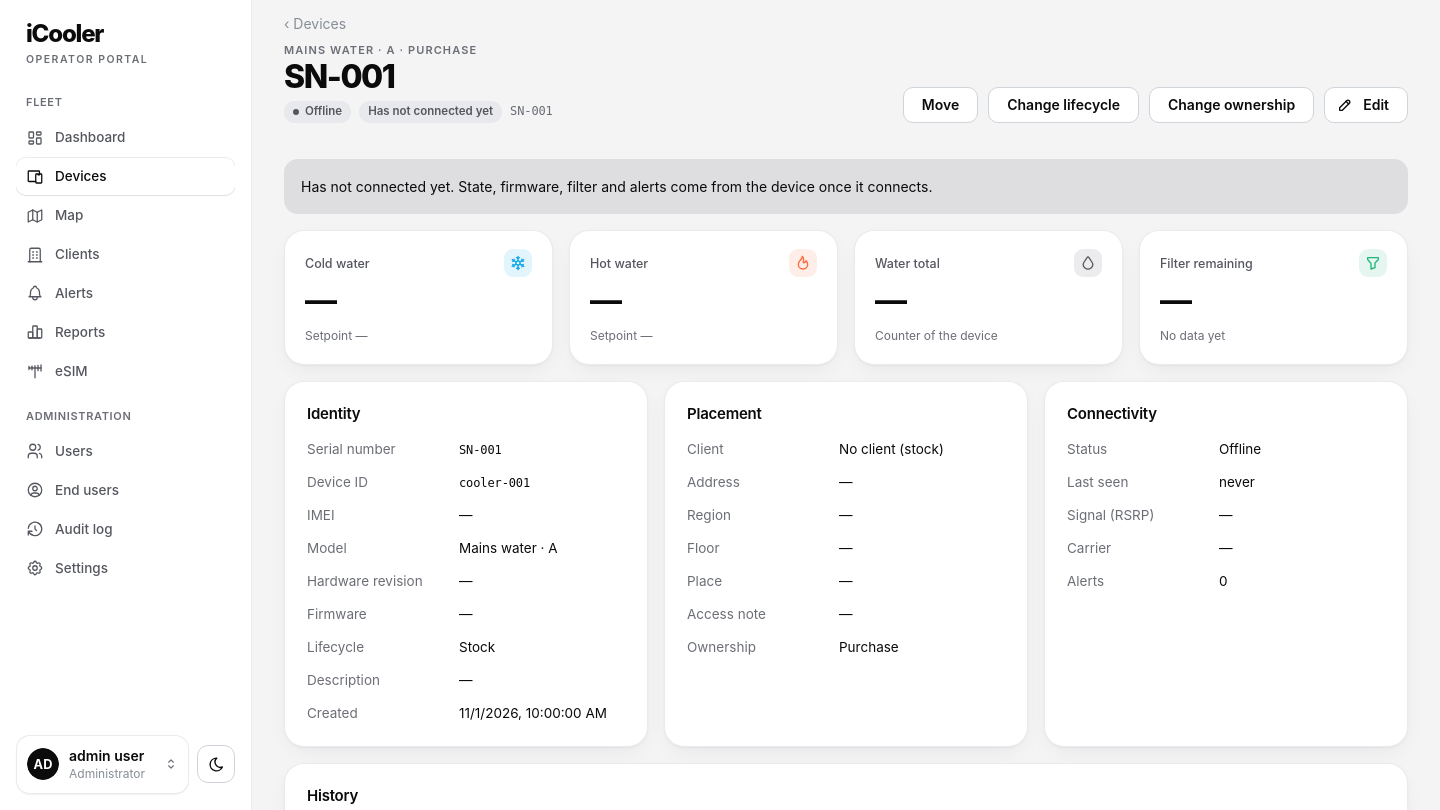
Test case: устройства › перенос: пока адреса клиента грузятся или не загрузились — сохранить нельзя; повтор загружает
Click the button "Move".
click(940, 104)  # box [903,86,978,122]
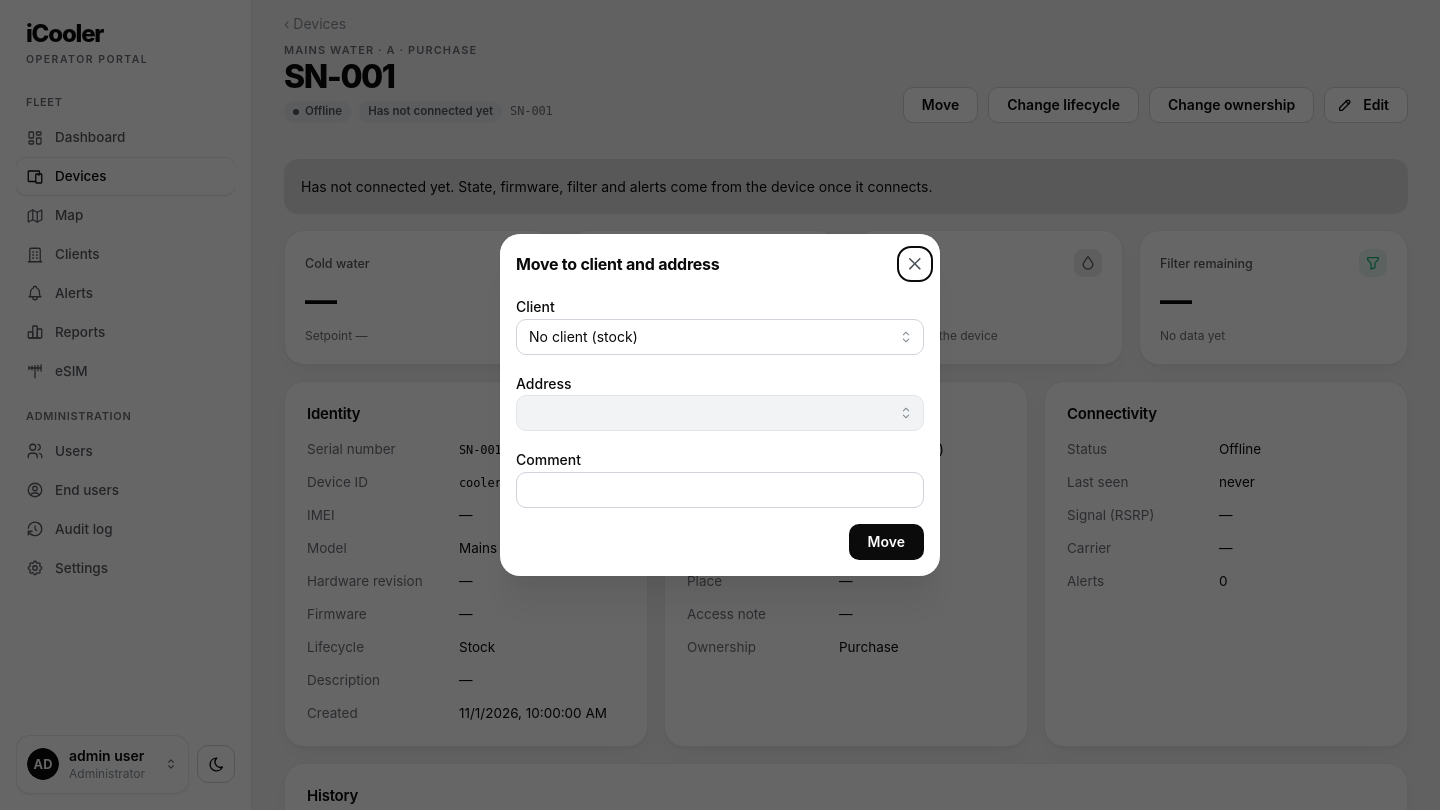
Click the field labelled "Client".
click(720, 337)  # box [516,319,924,355]
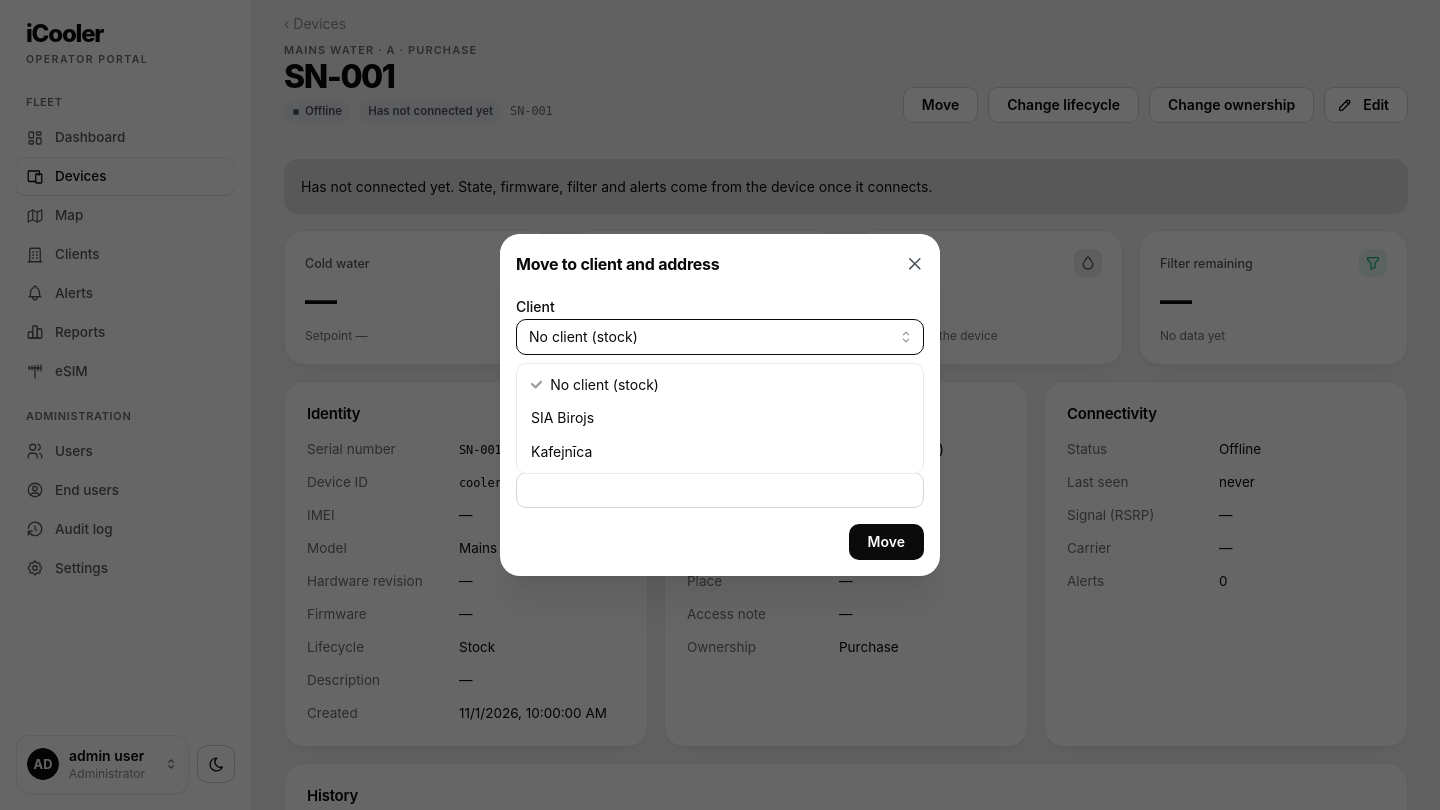
Click the option "Kafejnīca".
click(562, 452)  # box [531,443,592,460]
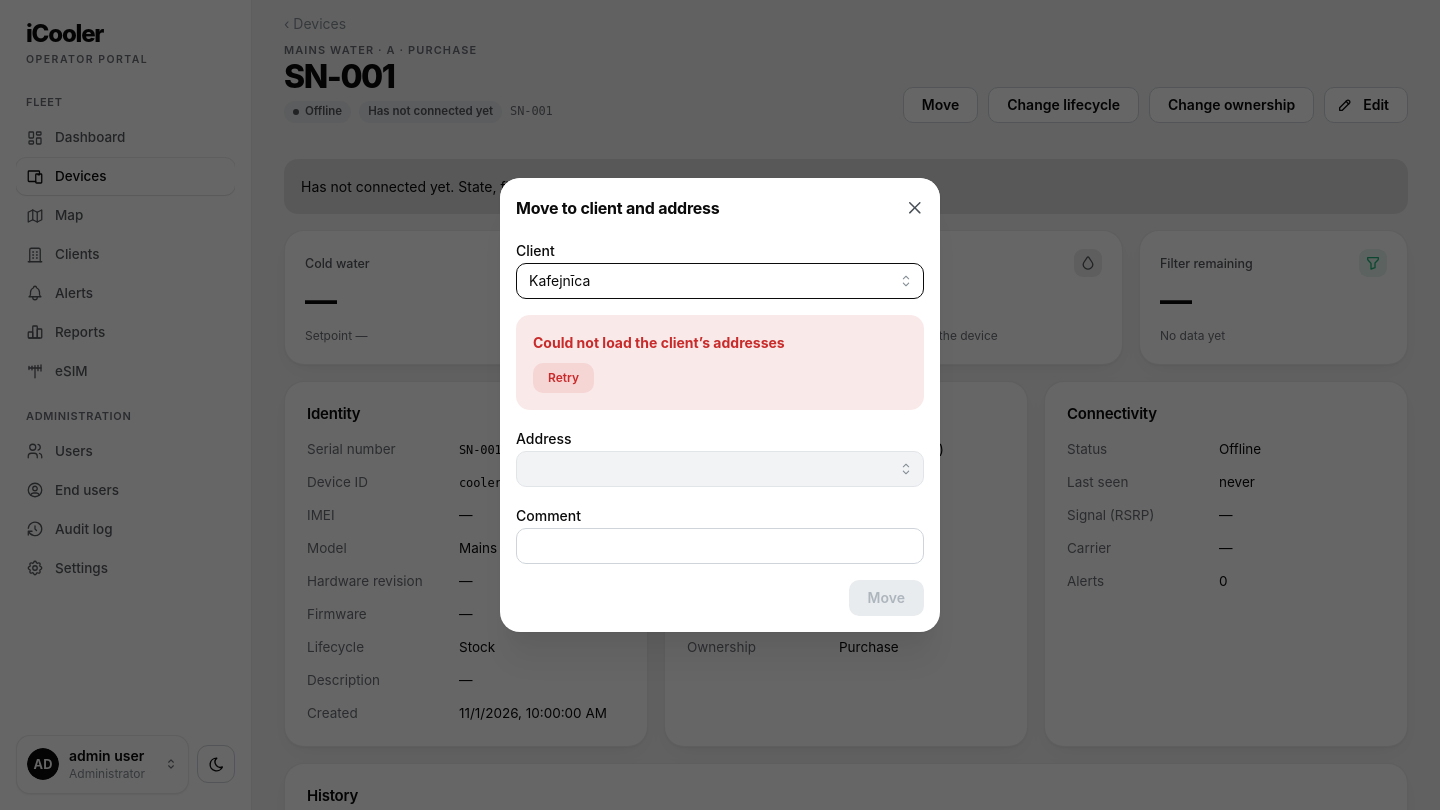
Check: the text "Could not load the client’s addresses" is shown, box [533,332,785,354]
Check: the button "Move" is disabled, box [849,580,924,616]
Click the button "Retry".
click(564, 378)  # box [533,363,594,393]
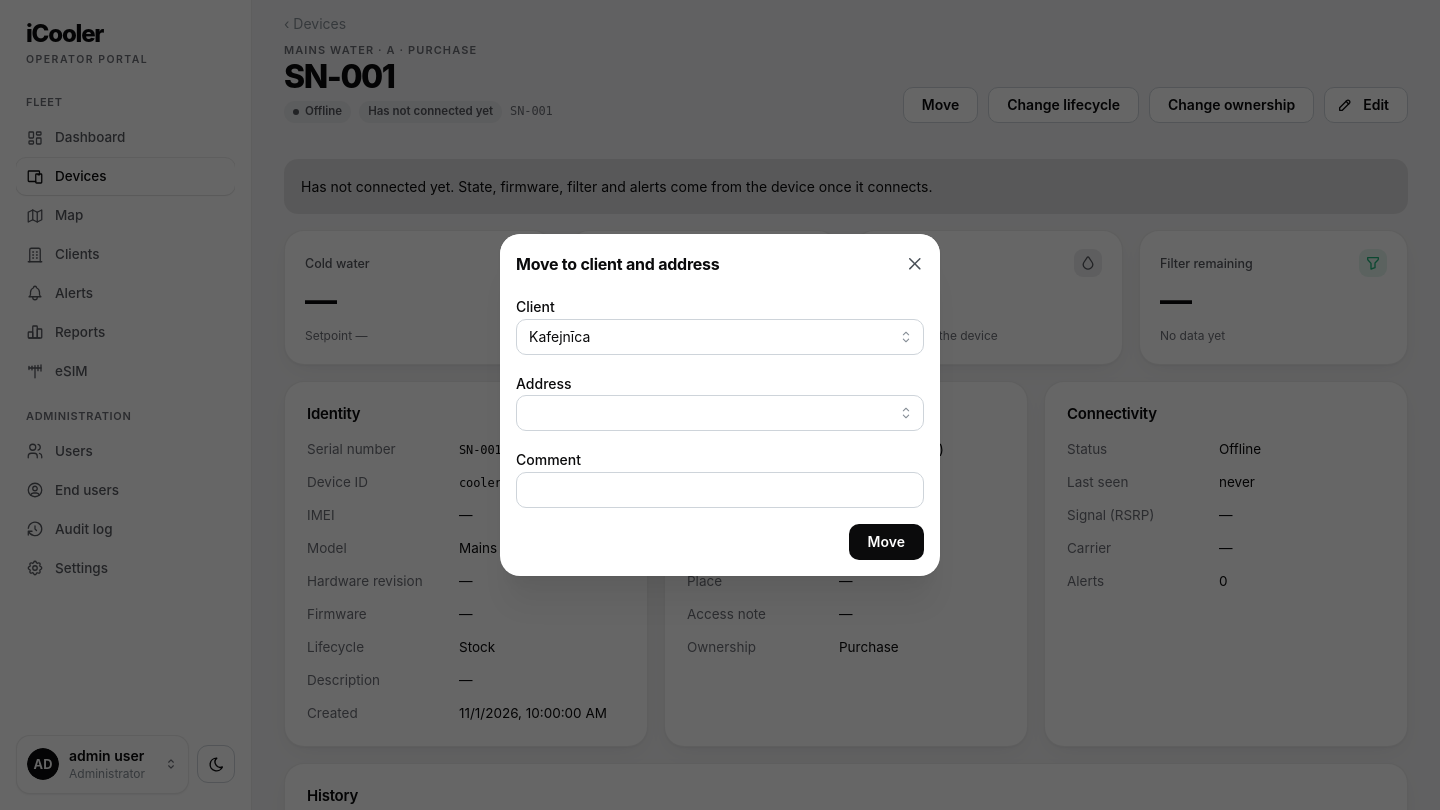
Check: the button "Move" is enabled, box [849,524,924,560]
